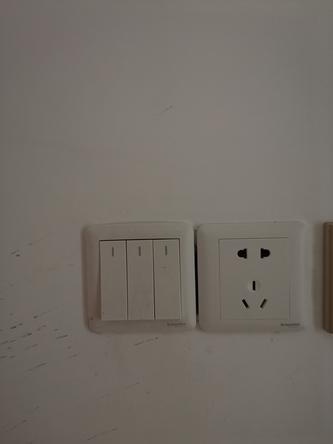switch: (122, 236, 161, 325), (150, 234, 185, 322), (95, 235, 130, 322)
